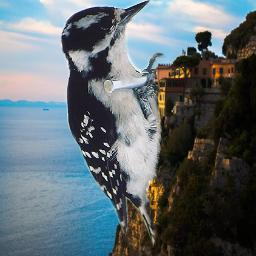Woodpecker: (60, 0, 169, 248)
